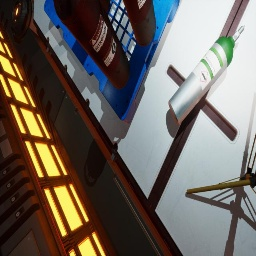0: (168, 25, 245, 126)
NitrogenTank ,: (53, 0, 130, 89), (123, 0, 156, 47), (101, 0, 111, 13)
